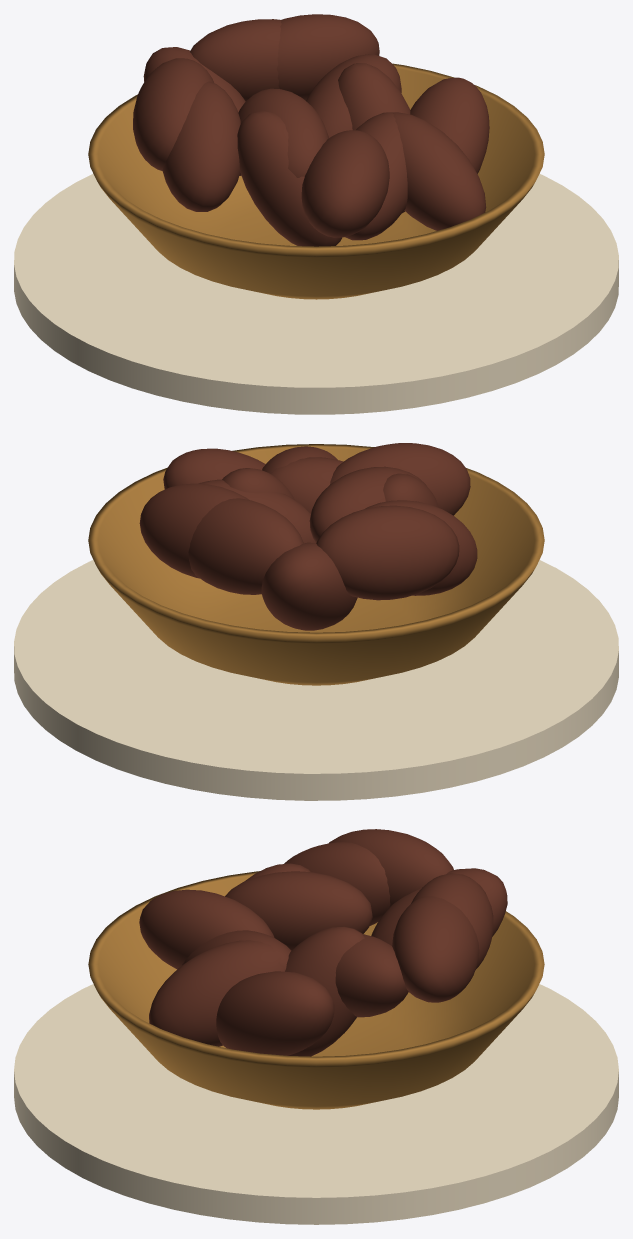
Rendered from cardamom-v1.glb.
3 views of the same model, one above another, from view 1: azimuth 30°, elevation 25°; view 2: azimuth 150°, elevation 25°; view 3: azimuth 270°, elevation 25° (orthographic).
Parts seen in each view (by area): view 1: cardamom-concept; view 2: cardamom-concept; view 3: cardamom-concept.
Boxes of the visible parts, left/top/right/bottom form: cardamom-concept: left=14, top=14, right=618, bottom=414; cardamom-concept: left=14, top=443, right=618, bottom=800; cardamom-concept: left=14, top=829, right=618, bottom=1224.
Size of the model in its own units: 2.44 by 0.9554 by 2.44.
